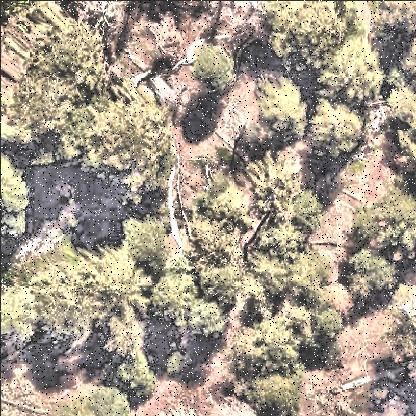tree-top: (70, 97, 185, 196), (2, 38, 111, 142), (144, 272, 231, 345), (252, 70, 318, 146), (304, 95, 370, 168), (327, 36, 387, 115), (262, 6, 334, 69), (238, 308, 306, 372), (359, 185, 416, 261), (182, 211, 244, 274), (232, 366, 309, 416), (118, 211, 180, 271), (183, 37, 243, 97), (339, 251, 401, 301), (111, 349, 166, 405), (96, 309, 157, 359), (38, 294, 92, 350), (258, 219, 313, 267), (282, 192, 333, 236), (1, 160, 29, 231), (312, 308, 352, 346)
